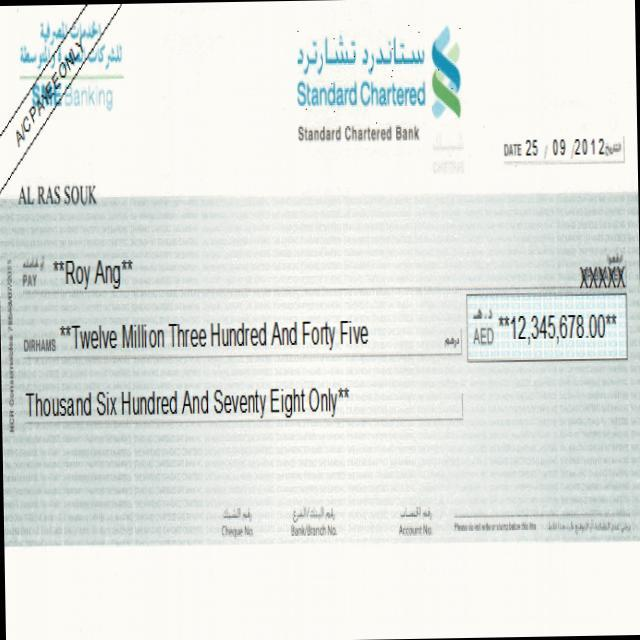Standard Chartered: (294, 23, 464, 129)
